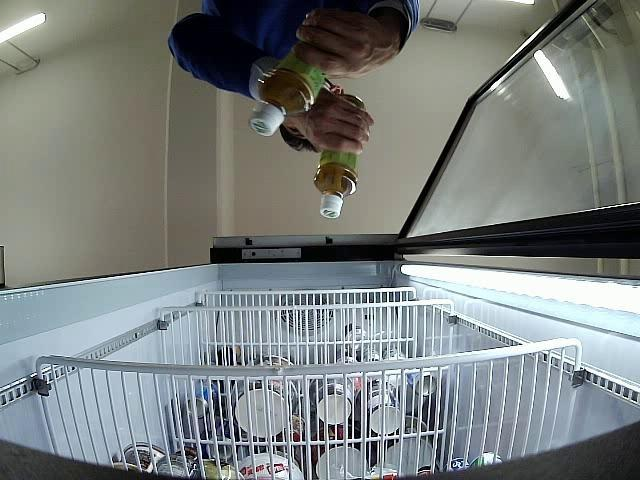19_17cha: (251, 48, 324, 138), (313, 150, 360, 218)
